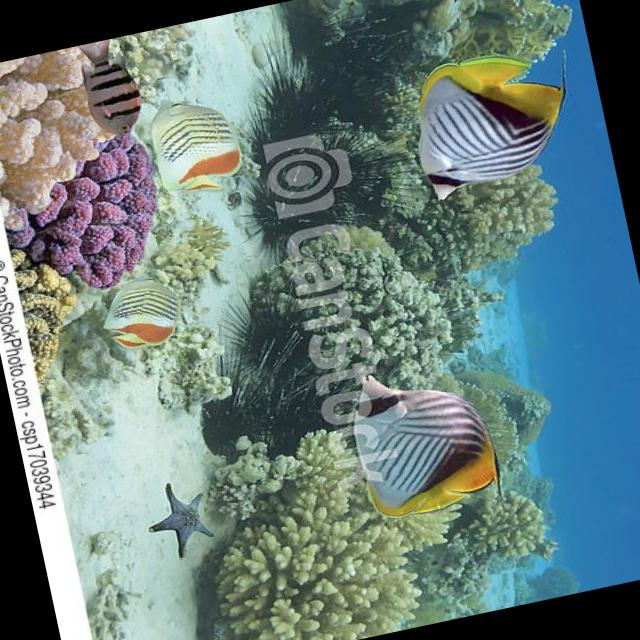ButterflyFish: (394, 28, 596, 208), (336, 357, 512, 540), (79, 256, 207, 370), (154, 81, 253, 197)
